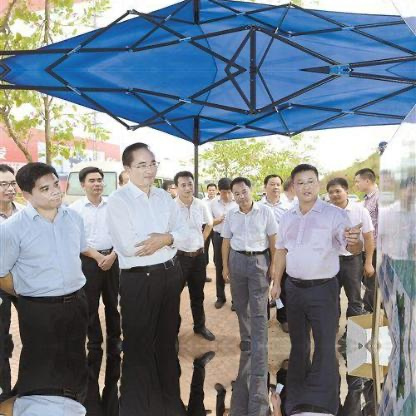No Safety Helmet: (15, 160, 66, 212), (117, 140, 162, 191), (290, 163, 320, 206), (77, 165, 108, 204), (229, 176, 258, 214), (1, 161, 19, 213), (352, 166, 380, 195), (325, 175, 352, 205), (171, 169, 195, 200), (262, 174, 284, 200), (218, 177, 232, 201), (205, 182, 221, 202)
